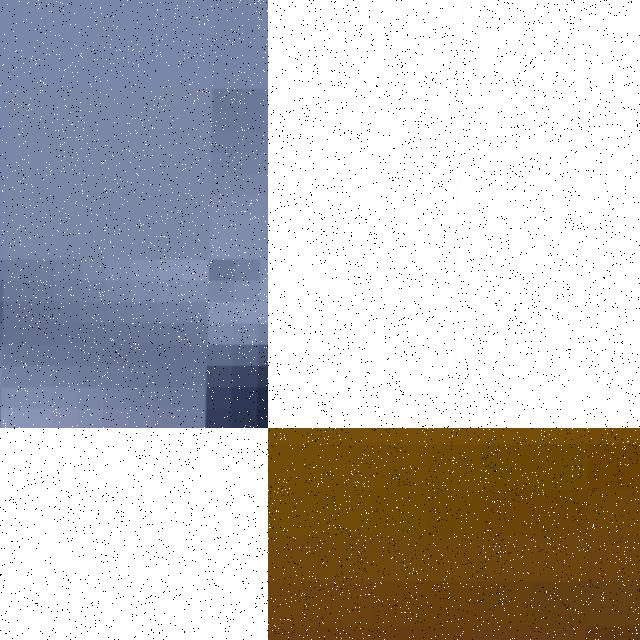0: (0, 0, 268, 428)
drone: (268, 0, 640, 428), (268, 428, 640, 640)
